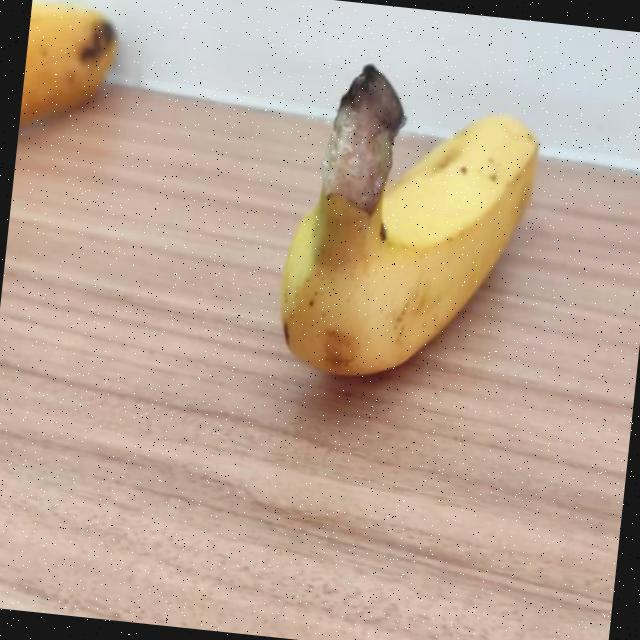Ripe: (248, 37, 570, 402)
